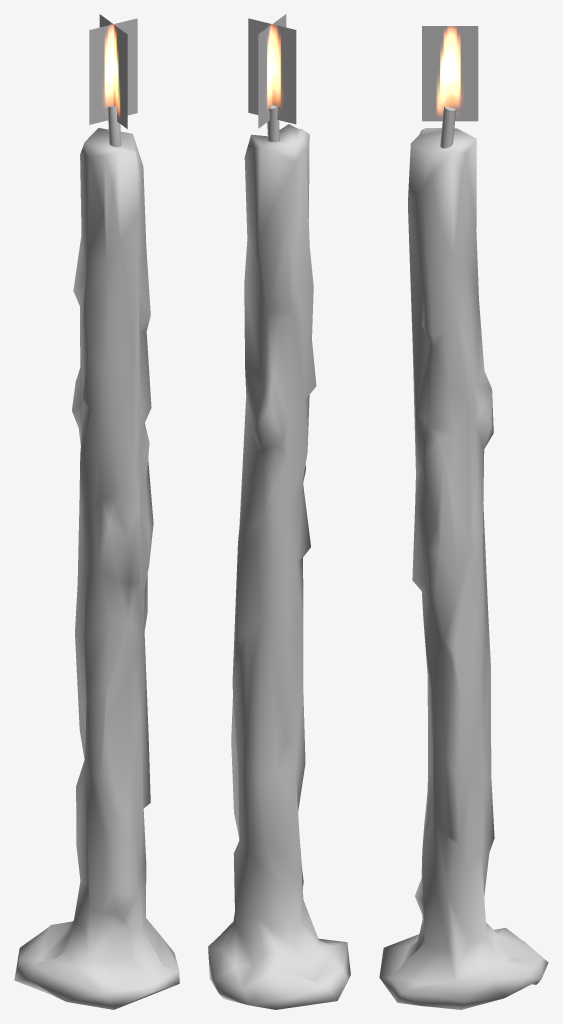
The model's file is KB3D_ECI_PropCandleLit_C.fbx.
3 views of the same model, side by side, from view 1: azimuth 30°, elevation 25°; view 2: azimuth 150°, elevation 25°; view 3: azimuth 270°, elevation 25° (orthographic).
Parts seen in each view (by area): view 1: KB3D_ECI_PropCandleLit_C_Main; view 2: KB3D_ECI_PropCandleLit_C_Main; view 3: KB3D_ECI_PropCandleLit_C_Main.
Boxes of the visible parts, bbox=[...] form: KB3D_ECI_PropCandleLit_C_Main: bbox=[14, 14, 179, 1009]; KB3D_ECI_PropCandleLit_C_Main: bbox=[208, 14, 350, 1009]; KB3D_ECI_PropCandleLit_C_Main: bbox=[379, 26, 548, 1009].
Size of the model in its own units: 4.36 by 29.08 by 4.64.
